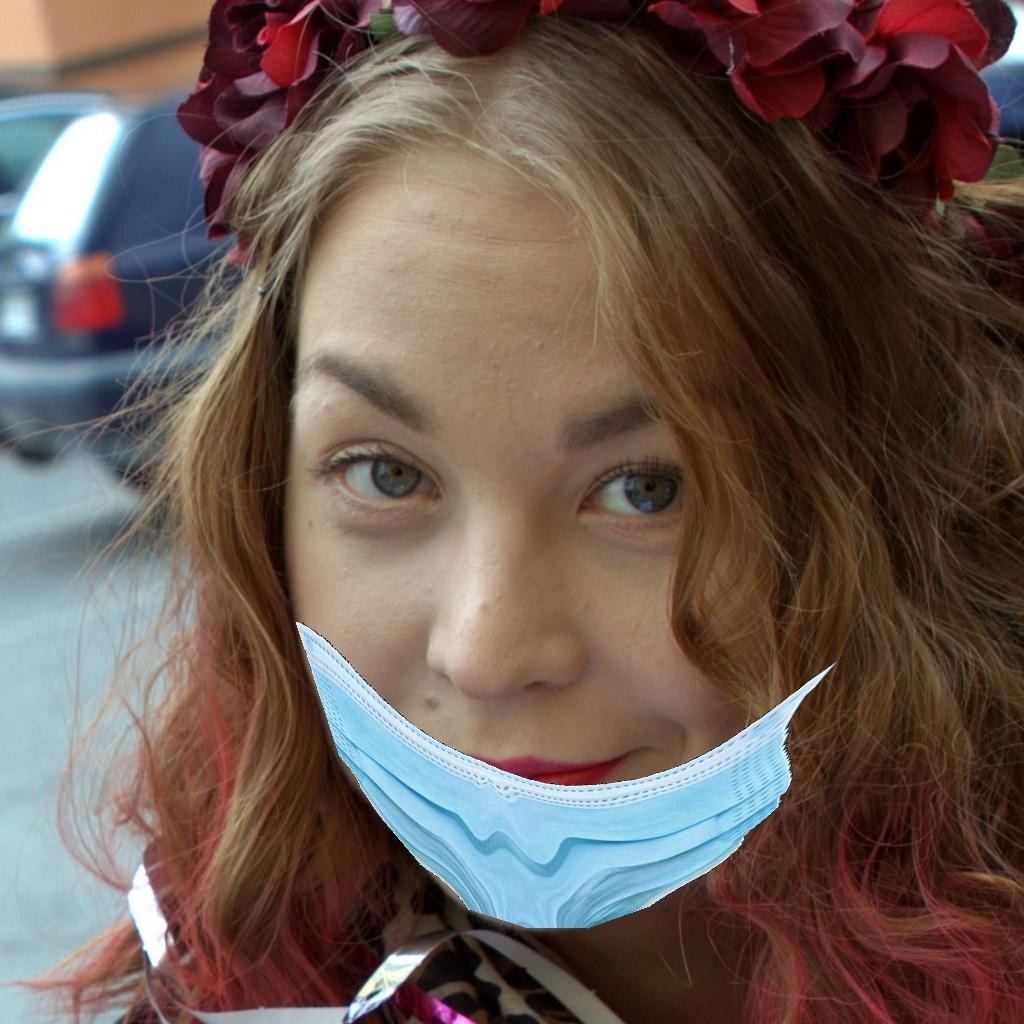Máscara Incorreta: (275, 325, 827, 901)
